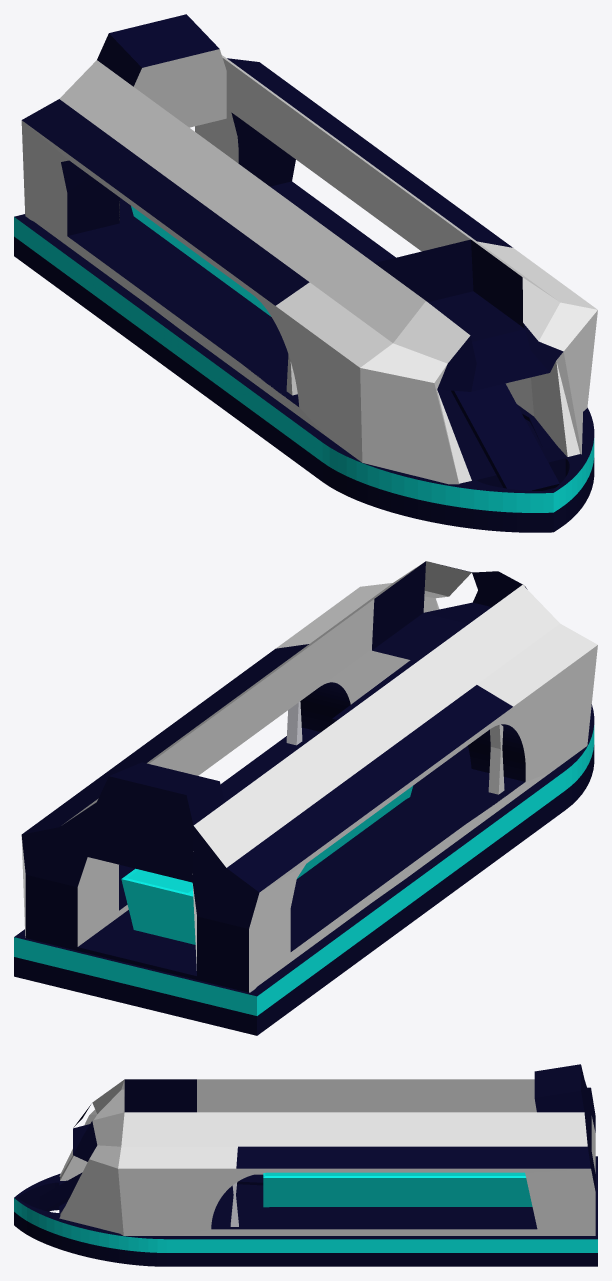
Rendered from interceptor-final.gltf.
3 renders of one model, top to bottom at view 1: azimuth 30°, elevation 25°; view 2: azimuth 150°, elevation 25°; view 3: azimuth 270°, elevation 25°, orthographic. The views are drawn at different scales.
Parts seen in each view (by area): view 1: Plane, Cube004, Cube; view 2: Plane, Cube, Cube003; view 3: Plane, Cube, Cube004.
Boxes of the visible parts, bbox=[...] form: Plane: bbox=[14, 14, 597, 532]; Cube004: bbox=[451, 383, 559, 490]; Cube: bbox=[131, 206, 271, 316]; Plane: bbox=[14, 561, 597, 1035]; Cube: bbox=[121, 786, 412, 944]; Cube003: bbox=[488, 724, 504, 794]; Plane: bbox=[14, 1064, 597, 1266]; Cube: bbox=[263, 1172, 532, 1207]; Cube004: bbox=[39, 1172, 82, 1211].
Size of the model in its own units: 2.9 by 2.41 by 8.64.
